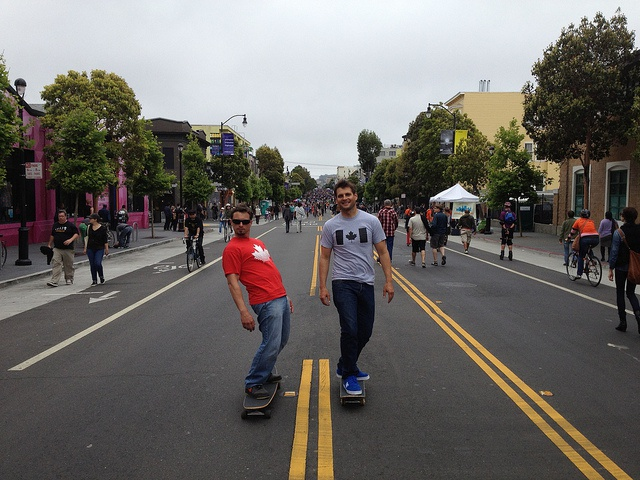non-vehicle: (563, 237, 603, 286), (182, 235, 202, 271), (0, 231, 9, 270), (102, 223, 115, 247), (221, 218, 233, 242)
